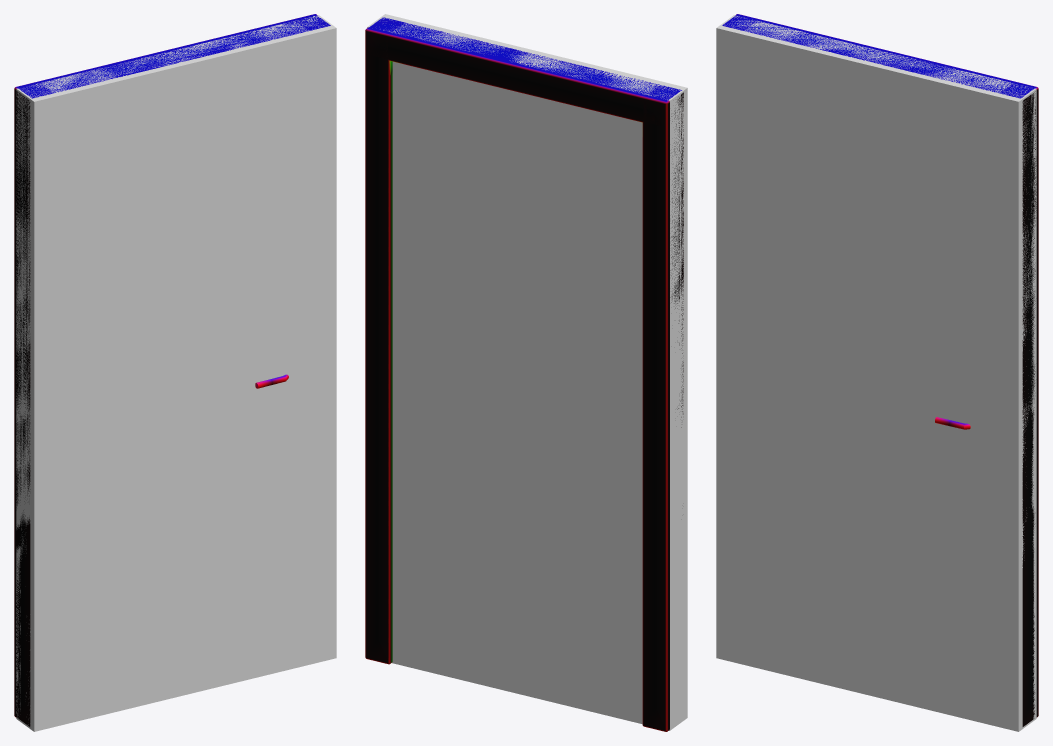
The model's file is prop_door.fbx.
3 views of the same model, side by side, from view 1: azimuth 30°, elevation 25°; view 2: azimuth 150°, elevation 25°; view 3: azimuth 330°, elevation 25° (orthographic).
Parts seen in each view (by area): view 1: COL_0, prop_door; view 2: COL_0, prop_door; view 3: COL_0, prop_door.
Boxes of the visible parts, x1=… form: COL_0: x1=16, y1=15, x2=336, y2=731; prop_door: x1=14, y1=14, x2=330, y2=726; COL_0: x1=367, y1=14, x2=687, y2=730; prop_door: x1=365, y1=17, x2=683, y2=731; COL_0: x1=716, y1=15, x2=1036, y2=731; prop_door: x1=722, y1=14, x2=1038, y2=726.
Bounding box in the file's own units: 1.08 × 2.15 × 0.1445.
